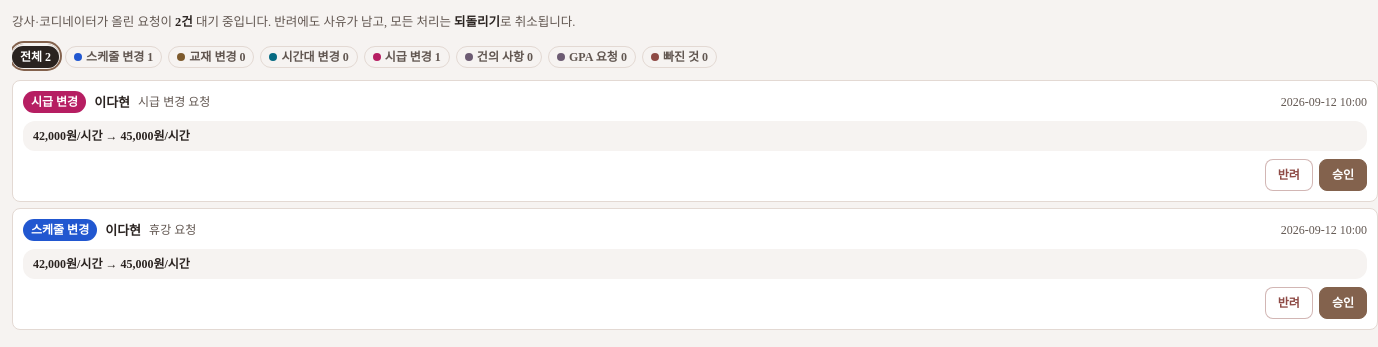
it: 분류 칩은 공용 칩 줄의 진한 채움으로 눌리고 그 분류만 남긴다
Check: the text "전체 2" is shown, box 12,46 -> 59,68
Click the button "시급 변경 1". click: coordinates (407, 56)
box: 364,44 -> 450,68
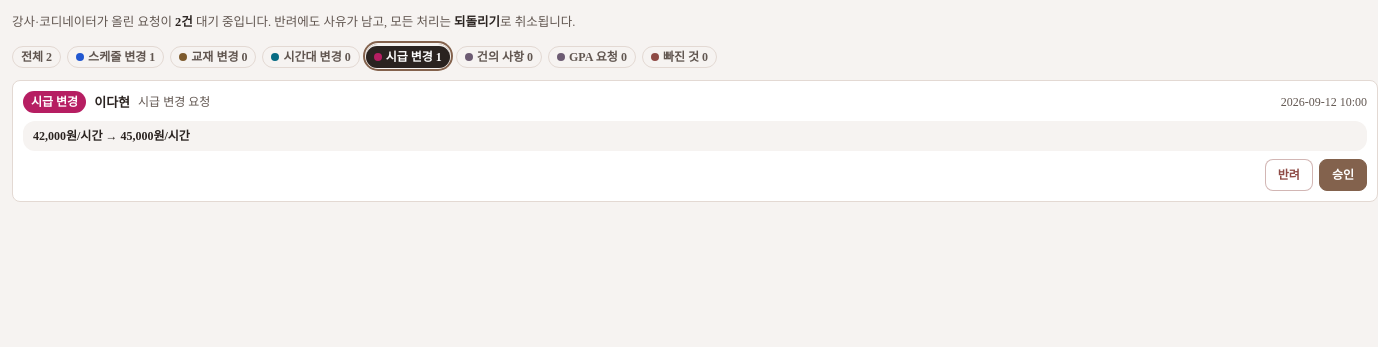
Check: the number of list items is 1, box 12,80 -> 1377,202
Click the button "시급 변경 1". click: coordinates (408, 56)
box: 366,44 -> 450,68
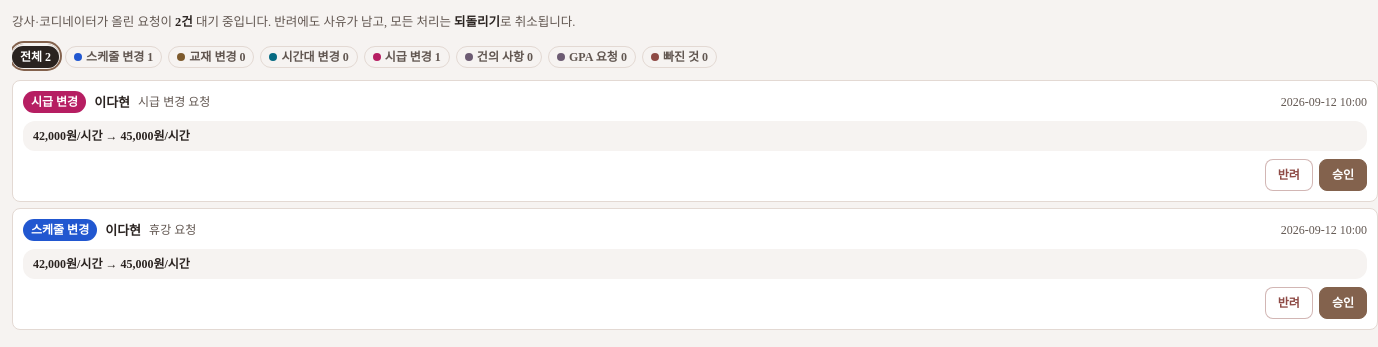
Check: the number of list items is 2, box 12,80 -> 1377,202; 12,208 -> 1377,330
